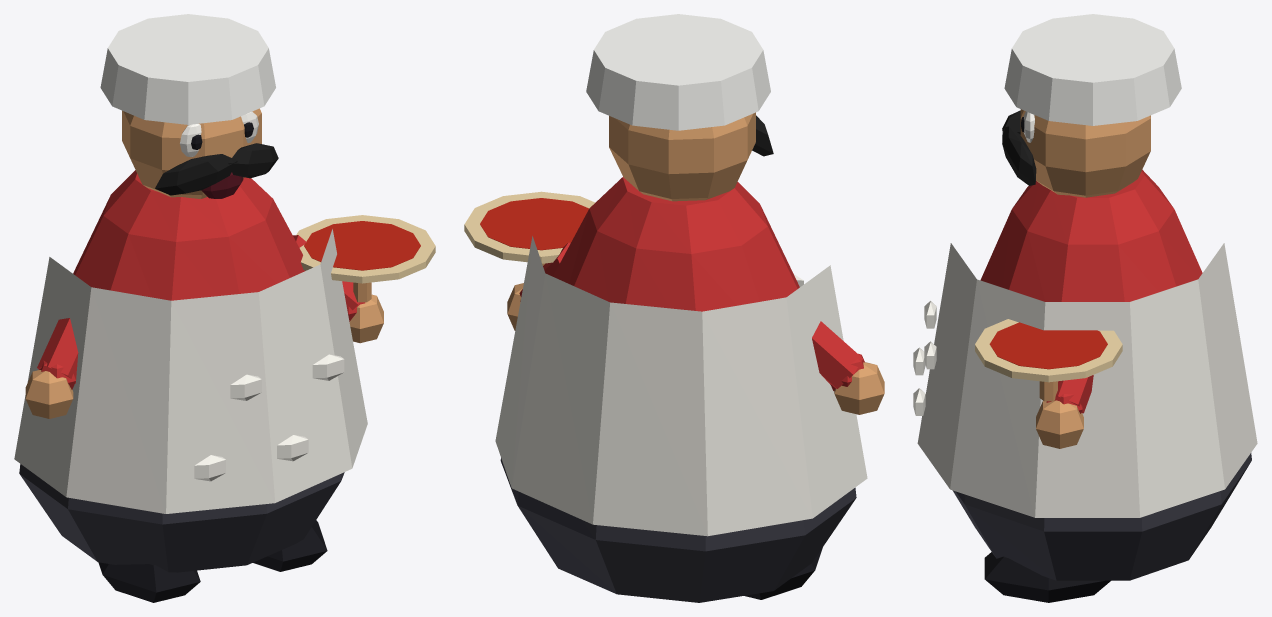
Rendered from npc_muzza.glb.
3 views of the same model, side by side, from view 1: azimuth 30°, elevation 25°; view 2: azimuth 150°, elevation 25°; view 3: azimuth 270°, elevation 25° (orthographic). The views are drawn at different scales.
Parts seen in each view (by area): view 1: body_muzza_apron, body_muzza_shirt, cap_muzza_cap, body_muzza_pants, head_skin_arena, legs_black, props_sauce_red, face_hair_black, arms_skin_arena, props_dough, body_flour_dust (×4), arms_muzza_shirt (+2 smaller); view 2: body_muzza_apron, body_muzza_shirt, body_muzza_pants, cap_muzza_cap, head_skin_arena, props_sauce_red, props_dough, arms_muzza_shirt, arms_skin_arena, legs_black; view 3: body_muzza_apron, body_muzza_shirt, cap_muzza_cap, body_muzza_pants, head_skin_arena, props_sauce_red, legs_black, props_dough, arms_skin_arena, face_hair_black, arms_muzza_shirt.
Boxes of the visible parts, x1,y1,x2,y2 form: body_muzza_apron: [14, 229, 367, 513]; body_muzza_shirt: [73, 170, 305, 300]; cap_muzza_cap: [100, 14, 275, 124]; body_muzza_pants: [19, 464, 344, 572]; head_skin_arena: [122, 108, 261, 198]; legs_black: [98, 520, 327, 602]; props_sauce_red: [304, 221, 420, 270]; face_hair_black: [155, 143, 278, 195]; arms_skin_arena: [25, 294, 383, 418]; props_dough: [296, 215, 435, 283]; body_flour_dust (×4): [194, 354, 344, 481]; arms_muzza_shirt: [37, 235, 365, 389]; body_muzza_apron: [495, 236, 867, 536]; body_muzza_shirt: [553, 177, 799, 311]; body_muzza_pants: [500, 458, 856, 602]; cap_muzza_cap: [586, 14, 770, 130]; head_skin_arena: [609, 112, 755, 201]; props_sauce_red: [480, 198, 588, 250]; props_dough: [464, 191, 595, 263]; arms_muzza_shirt: [519, 242, 864, 390]; arms_skin_arena: [507, 283, 884, 414]; legs_black: [744, 547, 822, 599]; body_muzza_apron: [917, 243, 1257, 517]; body_muzza_shirt: [980, 170, 1202, 301]; cap_muzza_cap: [1004, 14, 1181, 125]; body_muzza_pants: [952, 453, 1251, 580]; head_skin_arena: [1020, 109, 1150, 197]; props_sauce_red: [989, 322, 1107, 369]; legs_black: [984, 552, 1110, 602]; props_dough: [975, 319, 1122, 382]; arms_skin_arena: [1036, 400, 1083, 448]; face_hair_black: [1002, 110, 1036, 185]; arms_muzza_shirt: [1046, 375, 1093, 413].
Size of the model in its own units: 1.25 by 1.54 by 0.9315.
